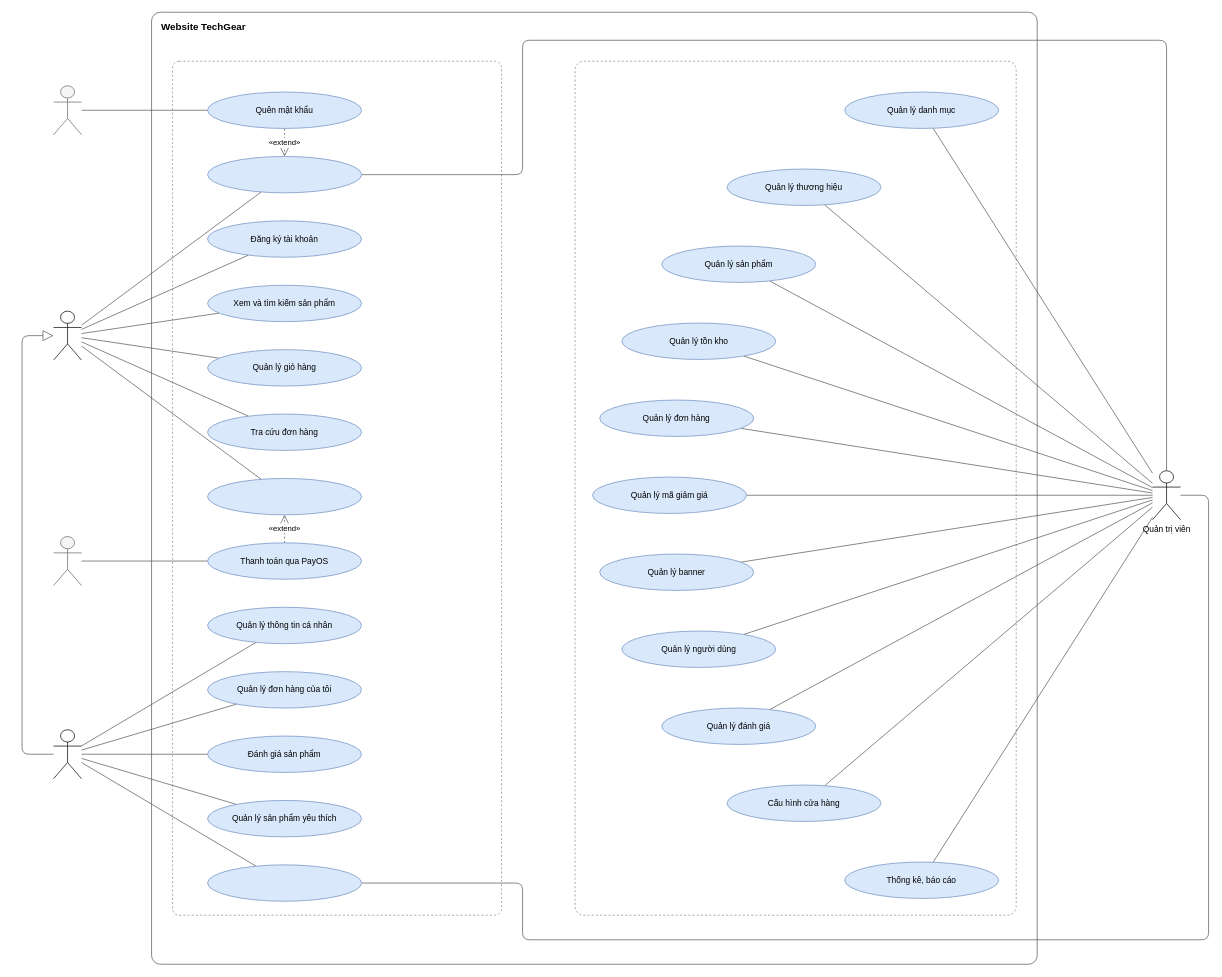
Image size: 1222x977. Some labels were removed from this diagram. Each missing label, with the box of its shape:
Chức năng phía khách hàng: (172, 61, 502, 915)
Chức năng quản trị: (574, 61, 1016, 915)
Cổng thanh toán PayOS: (53, 536, 82, 586)
Dịch vụ Email: (53, 85, 82, 135)
Khách hàng: (53, 729, 82, 779)
Khách vãng lai: (53, 310, 82, 360)
Đăng nhập: (207, 156, 362, 193)
Đăng xuất: (207, 864, 362, 901)
Đặt hàng: (207, 478, 362, 515)
